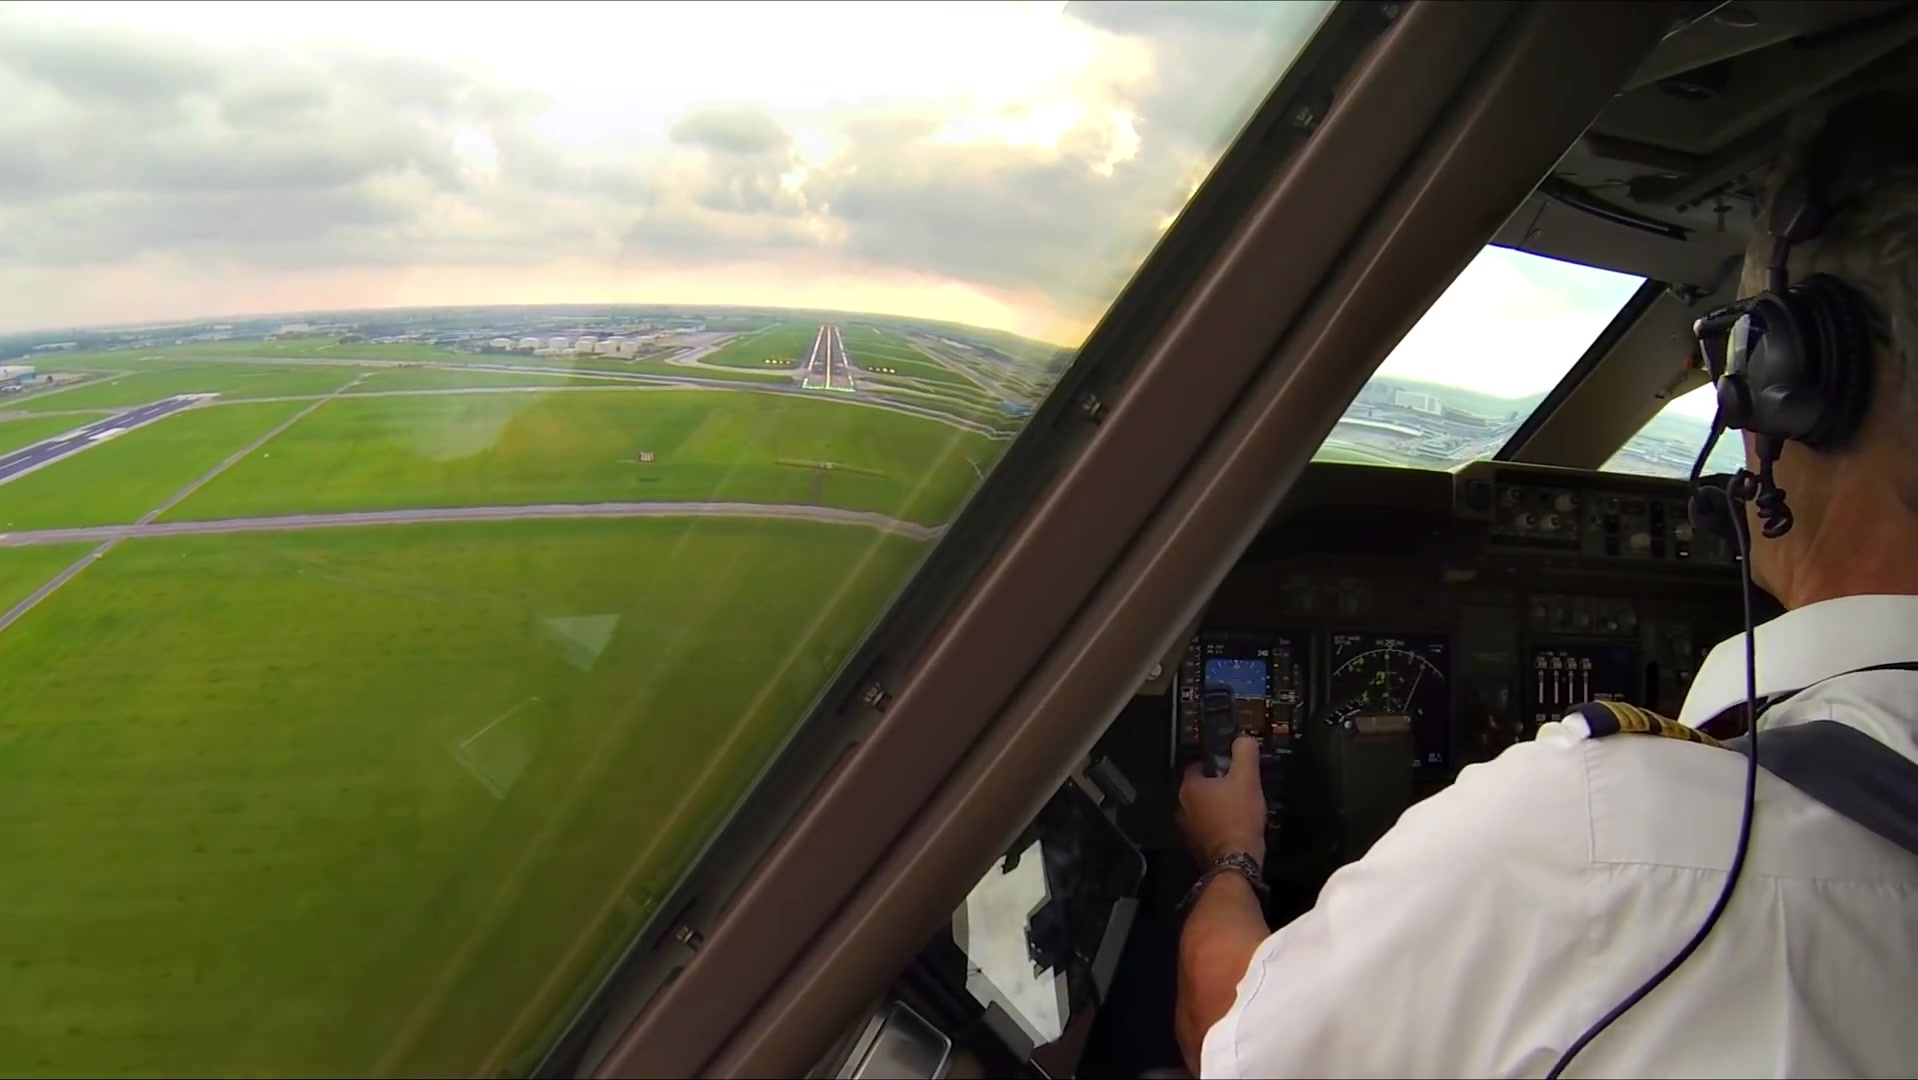runway: (800, 320, 862, 399)
